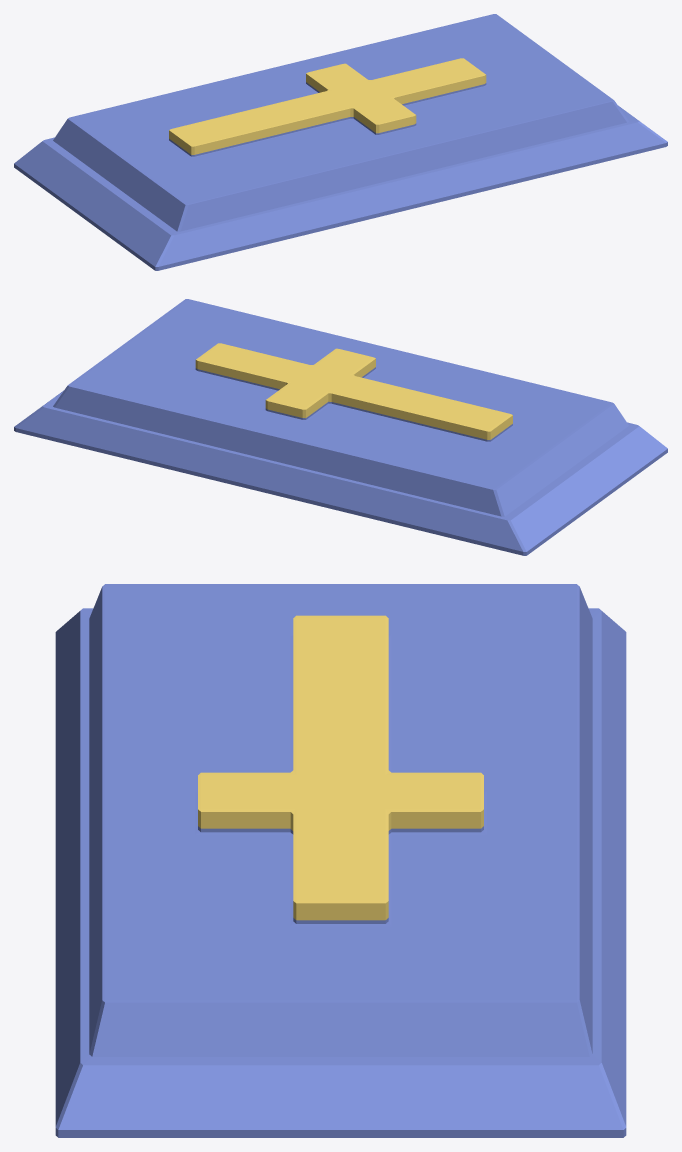
File: Tomb 2.fbx
The picture shows the model from 3 angles, top to bottom: view 1: azimuth 30°, elevation 25°; view 2: azimuth 150°, elevation 25°; view 3: azimuth 270°, elevation 25°; orthographic projection. The views are drawn at different scales.
Visible parts, largest first — view 1: Tomb 2; view 2: Tomb 2; view 3: Tomb 2.
Boxes of the visible parts, box(x1,y1,x2,y2) form: Tomb 2: box(14, 14, 667, 270); Tomb 2: box(14, 299, 667, 555); Tomb 2: box(55, 584, 626, 1137).
Size of the model in its own units: 392 by 42.13 by 189.
